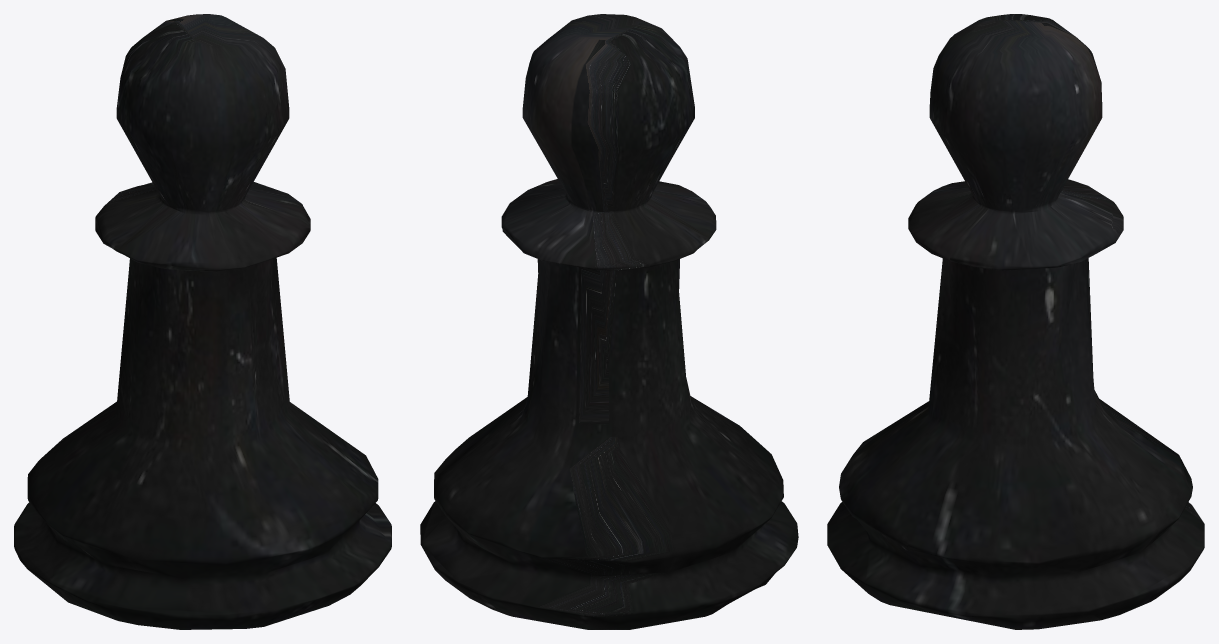
Rendered from Pawn.obj.
3 renders of one model, left to right at view 1: azimuth 30°, elevation 25°; view 2: azimuth 150°, elevation 25°; view 3: azimuth 270°, elevation 25°, orthographic.
Parts seen in each view (by area): view 1: mesh01; view 2: mesh01; view 3: mesh01.
Part boxes in pixels (<box>): mesh01: <box>14,14,391,629</box>; mesh01: <box>420,14,798,629</box>; mesh01: <box>827,14,1204,629</box>.
Bounding box in the file's own units: 12.07 × 19.15 × 12.03.
Materials: 1 (1 with a texture image).
